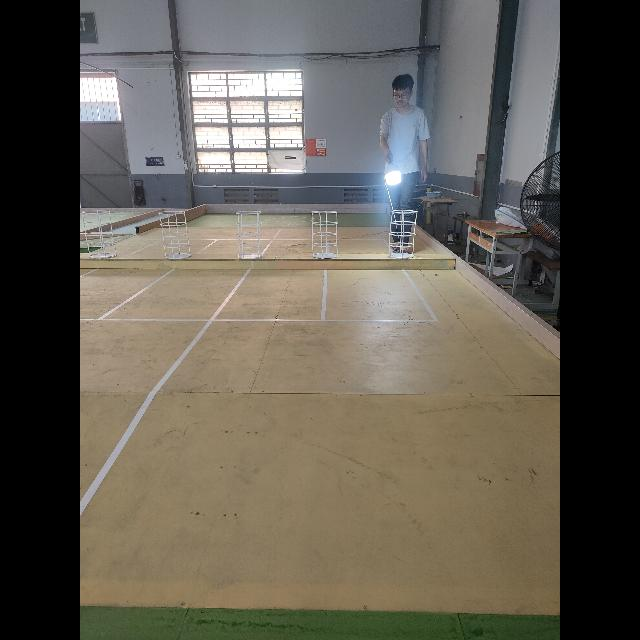S: (81, 210, 117, 258), (158, 210, 192, 260), (388, 209, 418, 259), (236, 210, 264, 260), (310, 210, 338, 260)
